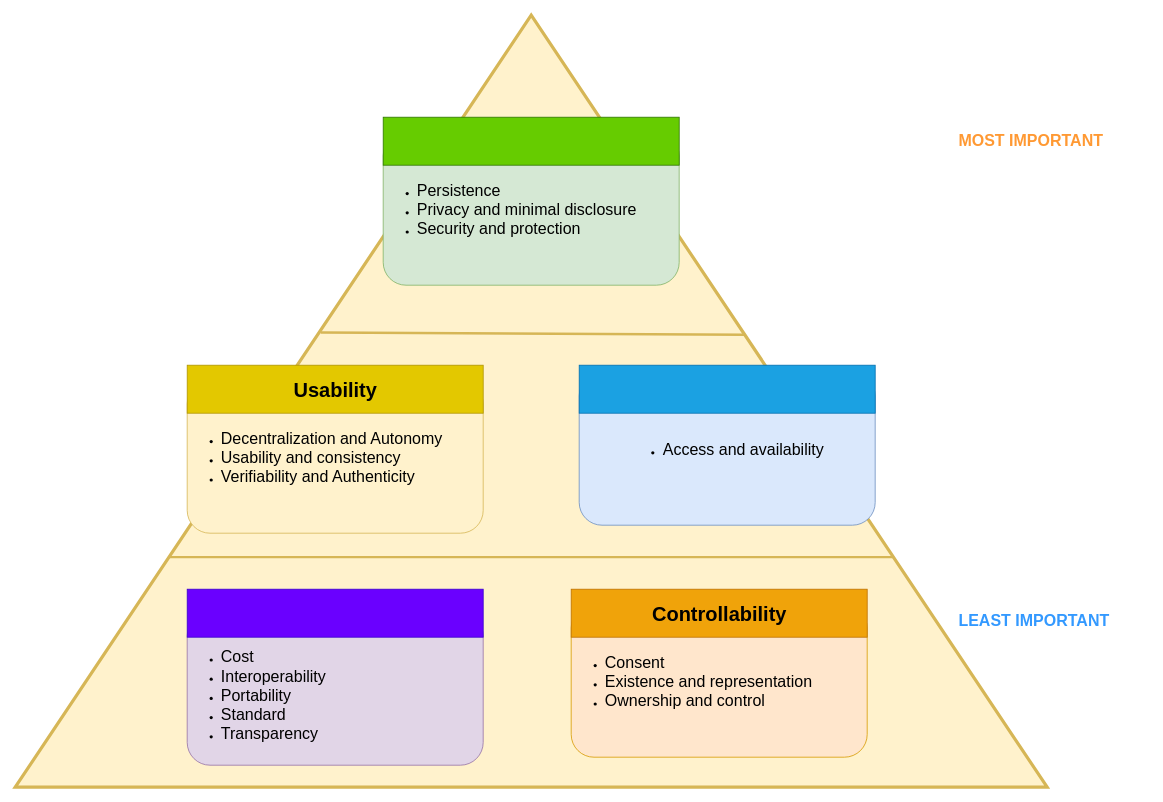
Some shapes in this 1163 by 802 pixel diagram are drawn without their labels. The centre of each missing label's shape, as x and y in pixels:
"Autonomous mobility" goes at (726,388).
"Security" goes at (530,140).
"Sustainability" goes at (334,612).
